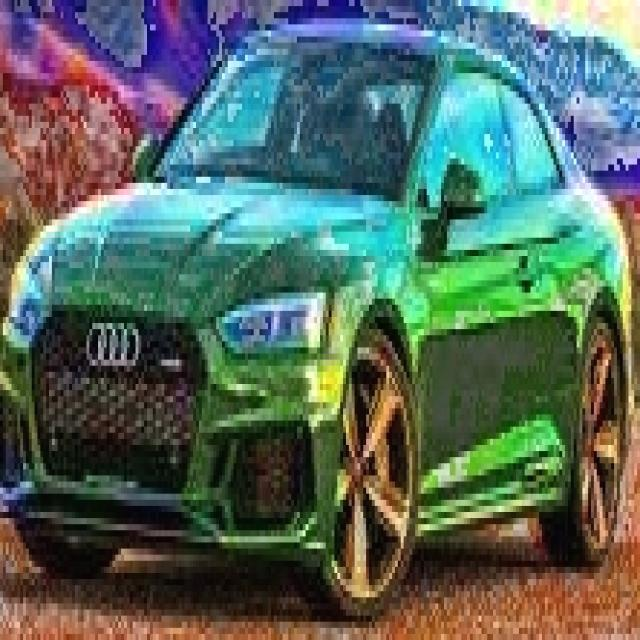green: (0, 33, 629, 600)
